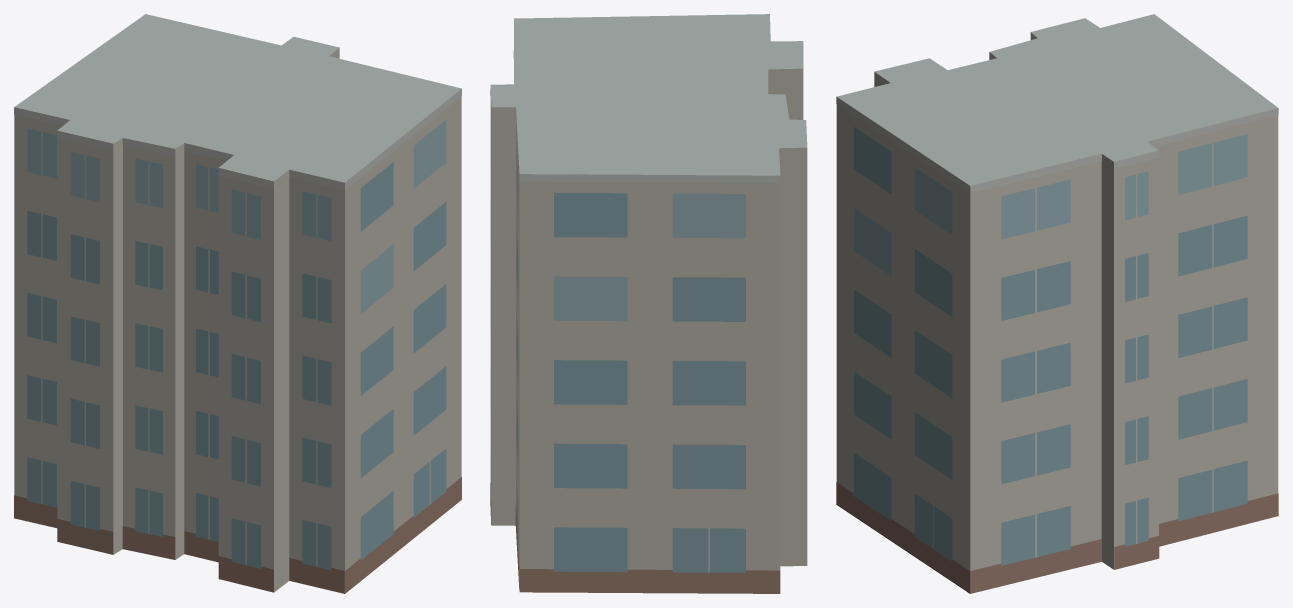
File: survey-upis-33019456.glb
The picture shows the model from 3 angles, left to right: view 1: azimuth 30°, elevation 25°; view 2: azimuth 150°, elevation 25°; view 3: azimuth 270°, elevation 25°; orthographic projection. The views are drawn at different scales.
Parts seen in each view (by area): view 1: survey-upis-33019456.tmp; view 2: survey-upis-33019456.tmp; view 3: survey-upis-33019456.tmp.
Boxes of the visible parts, x1,y1,x2,y2 form: survey-upis-33019456.tmp: (14,14,461,593); survey-upis-33019456.tmp: (490,14,807,593); survey-upis-33019456.tmp: (836,14,1278,593).
Bounding box in the file's own units: 12.16 × 13.45 × 13.21.
